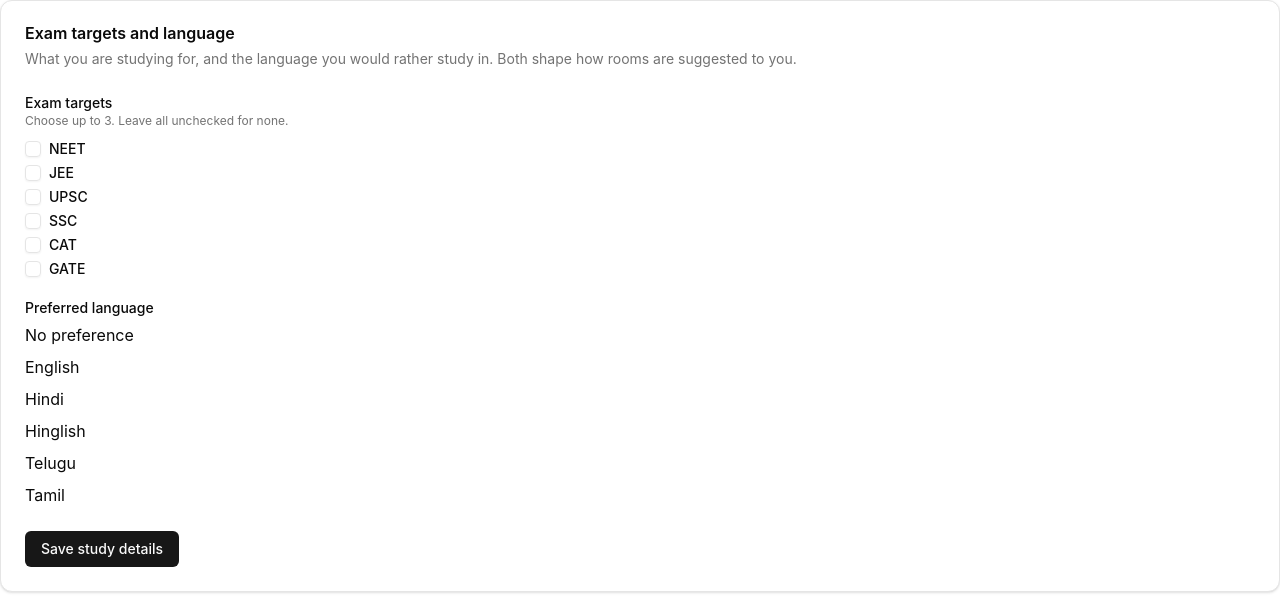
Test case: StudyPreferencesForm › disables and relabels the submit button while a save is pending
Click the button "Save study details" at (102, 549), box [25,531,179,567]
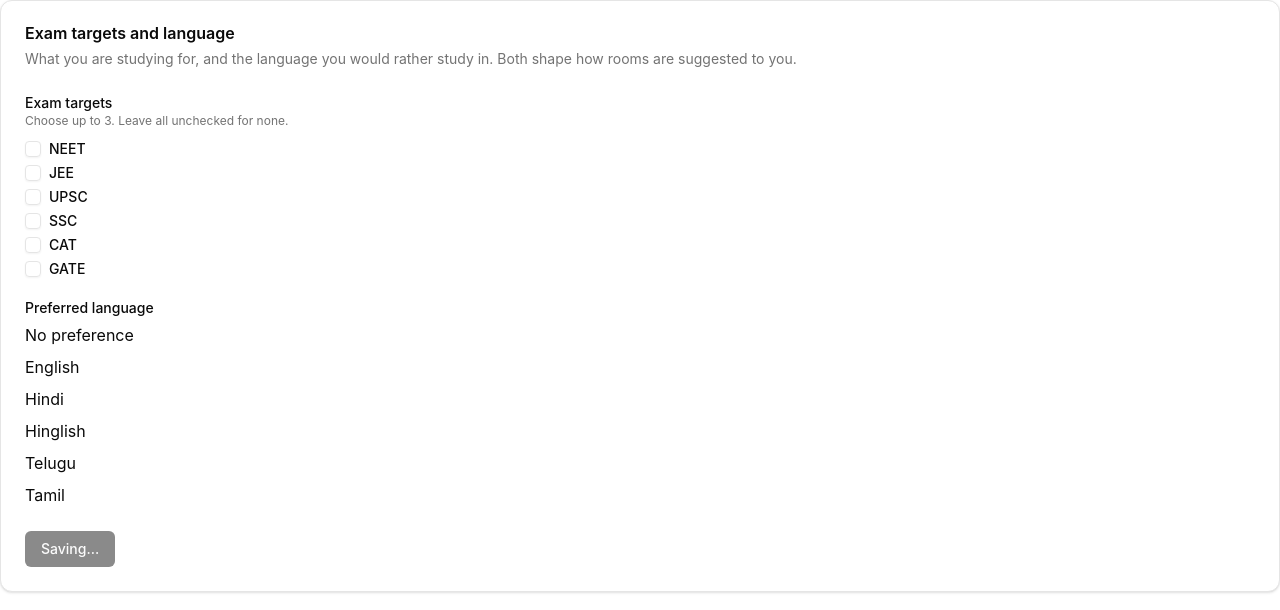
Expected: the button "Saving…" is disabled, [25,531,115,567]
